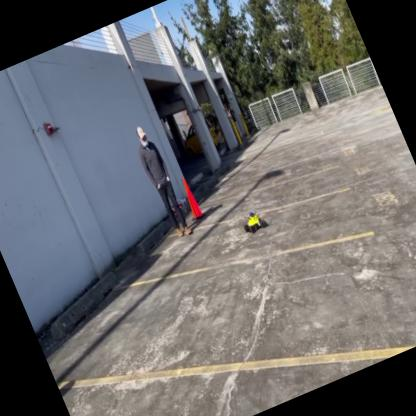cone: (176, 173, 204, 222)
mushr_car: (236, 203, 272, 239)
